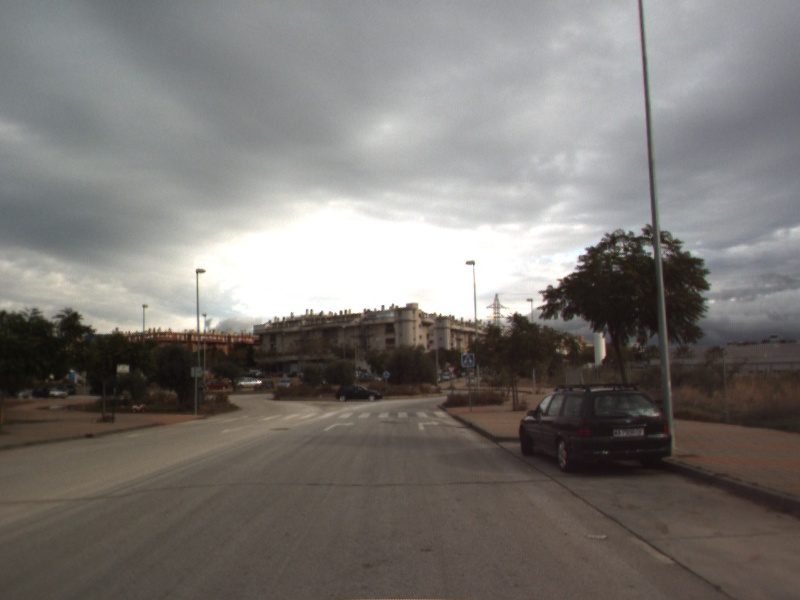RIGHT: (321, 419, 357, 433), (416, 419, 441, 432)
